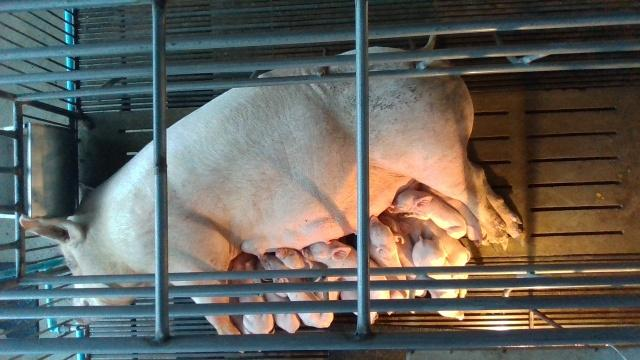piglet: (302, 239, 395, 316), (262, 254, 335, 328), (412, 235, 465, 321), (369, 214, 413, 315), (388, 185, 468, 239), (228, 253, 274, 335), (275, 247, 325, 283)
sow-sleep-lactate: (19, 38, 523, 335)
